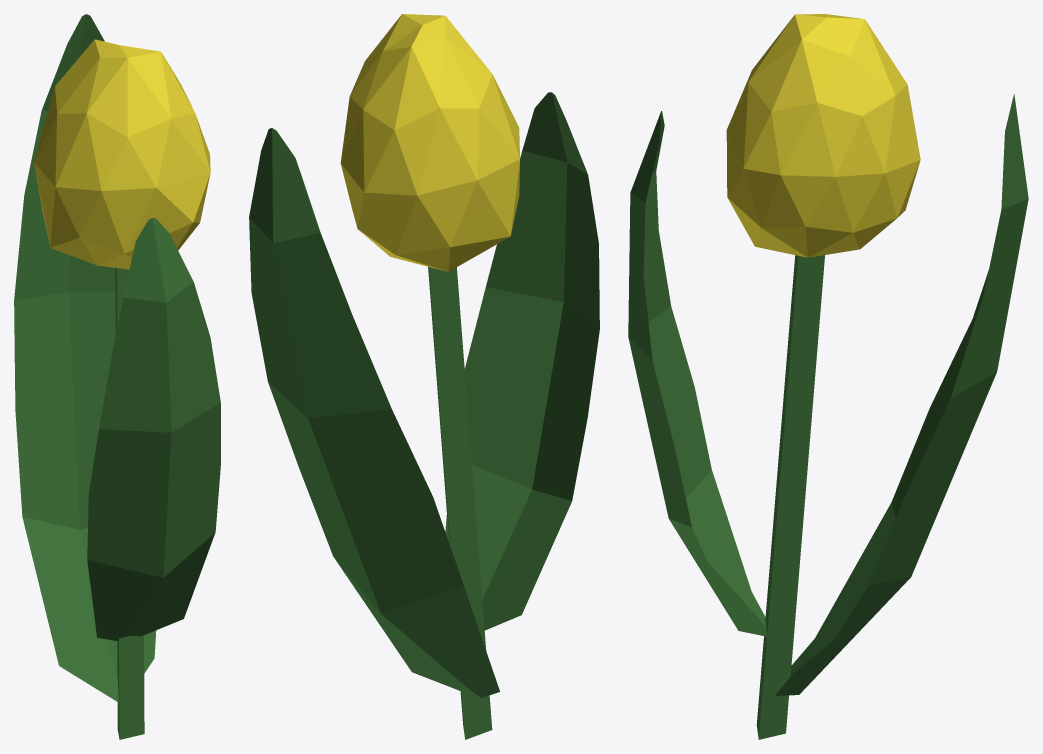
File: tulip1.glb
3 renders of one model, left to right at view 1: azimuth 30°, elevation 25°; view 2: azimuth 150°, elevation 25°; view 3: azimuth 270°, elevation 25°, orthographic. The views are drawn at different scales.
Visible parts, largest first — view 1: tulips.005; view 2: tulips.005; view 3: tulips.005.
Boxes of the visible parts, x1=… form: tulips.005: x1=14, y1=14, x2=220, y2=739; tulips.005: x1=249, y1=14, x2=599, y2=739; tulips.005: x1=628, y1=14, x2=1028, y2=739.
Size of the model in its own units: 0.1062 by 0.3807 by 0.19.
